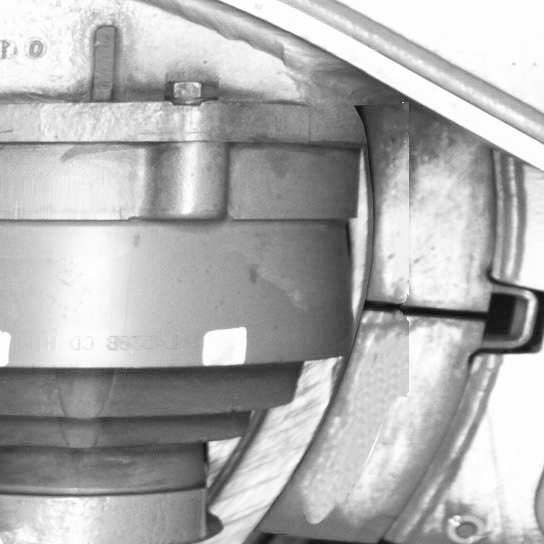ClosedKnifeSwitch: (235, 145, 488, 543)
